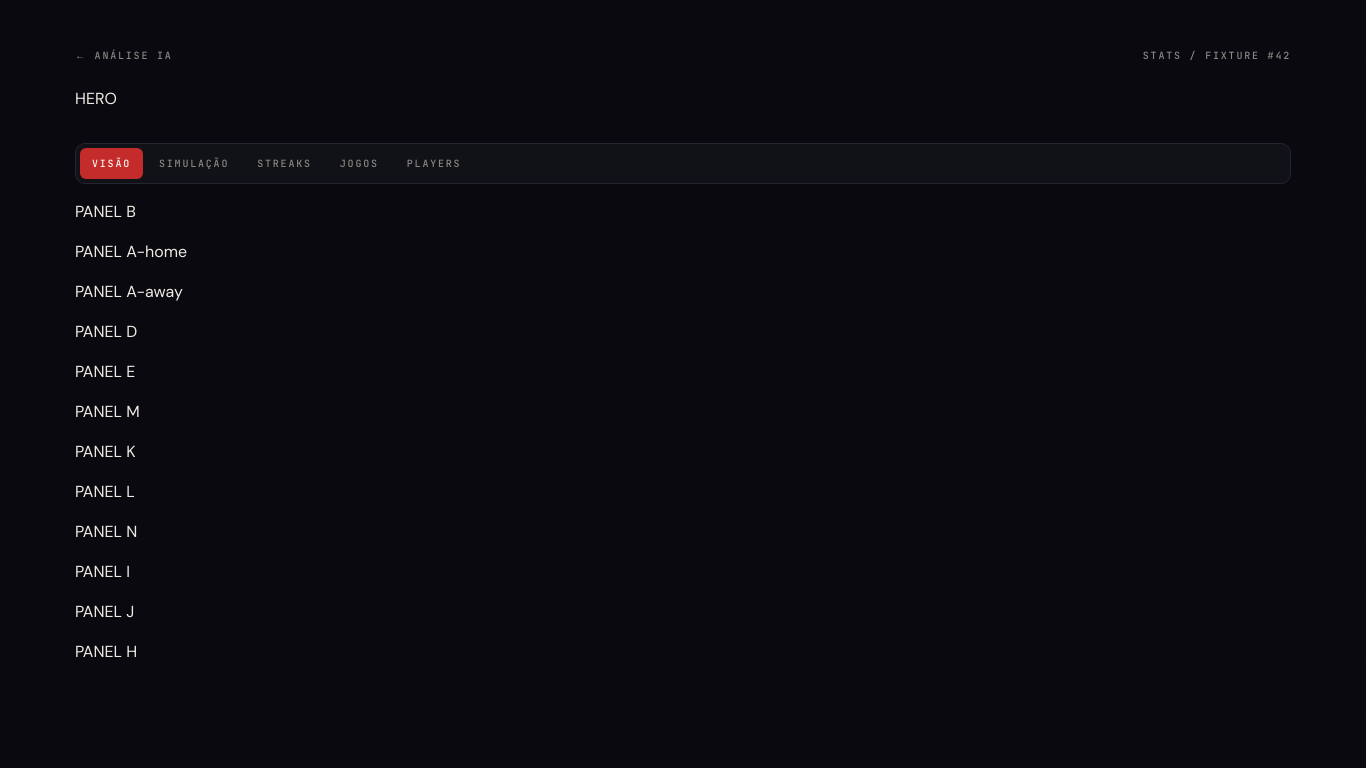
Test case: StatsLayout — mobile tabs › clicking 'streaks' tab mounts the F (streaks-heatmap) panel
Step 1. Press the mouse on the tab "streaks" → coordinates (284, 164), box [245,148,324,179]
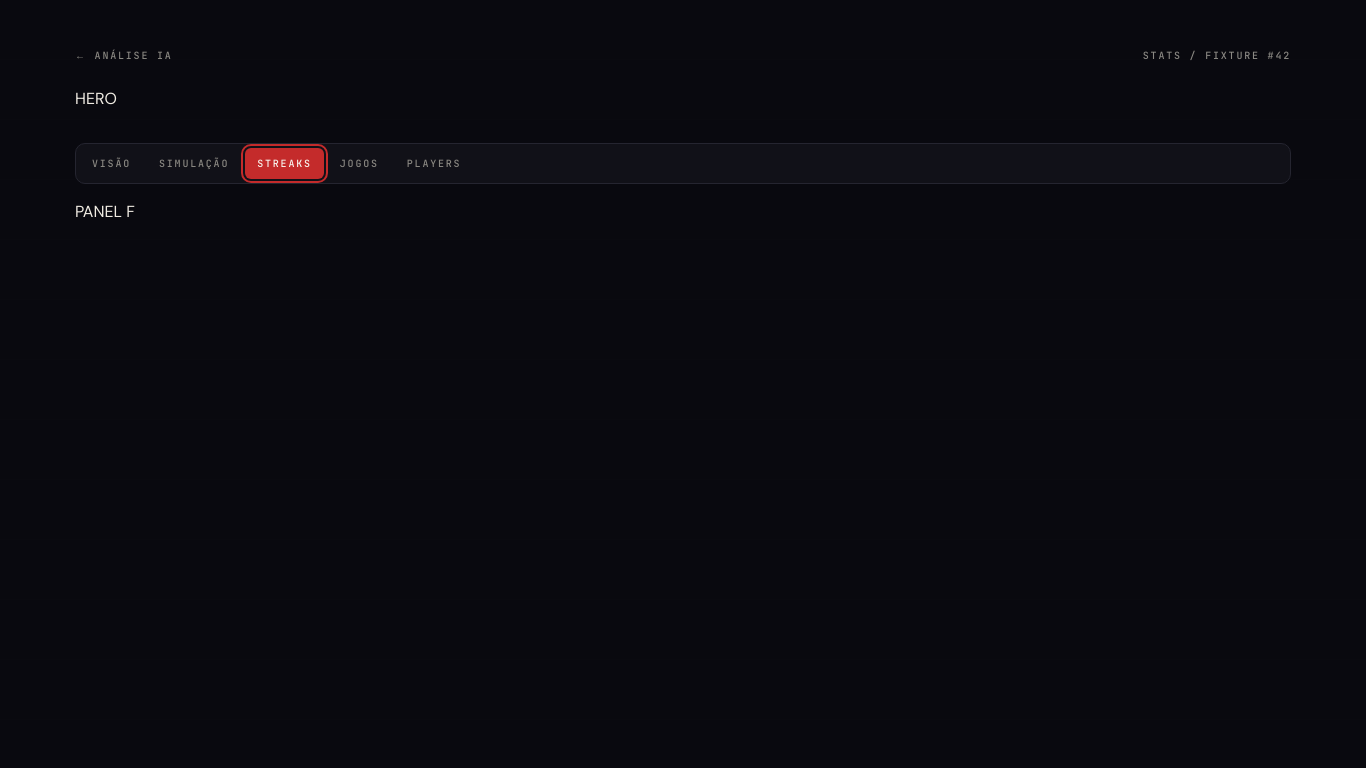
Expected: the element showing "PANEL F" is shown, [75,201,135,222]
